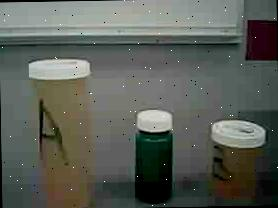Bottle A: (18, 50, 113, 208)
Bottle B: (197, 113, 275, 207)
Bottle C: (127, 104, 182, 208)
